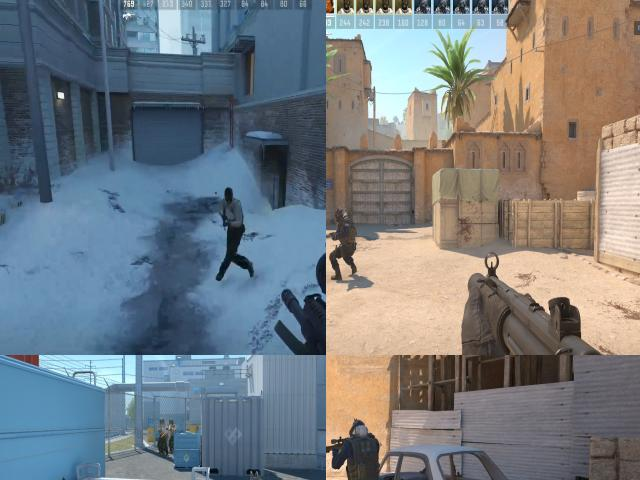CT: (340, 418, 383, 480), (332, 206, 356, 280)
CT-Head: (352, 420, 365, 437), (336, 208, 344, 222)
T: (220, 184, 244, 245), (162, 420, 168, 454), (170, 421, 176, 452), (158, 420, 161, 452), (169, 420, 171, 451)
T-Head: (221, 186, 237, 207), (162, 420, 165, 425), (171, 420, 174, 424), (160, 420, 162, 424), (169, 420, 171, 424)
